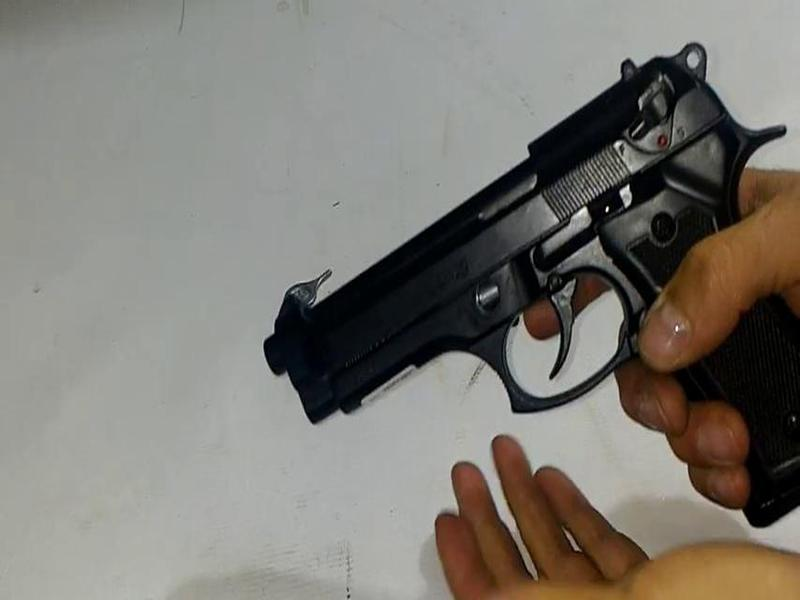Pistola: (229, 54, 800, 492)
